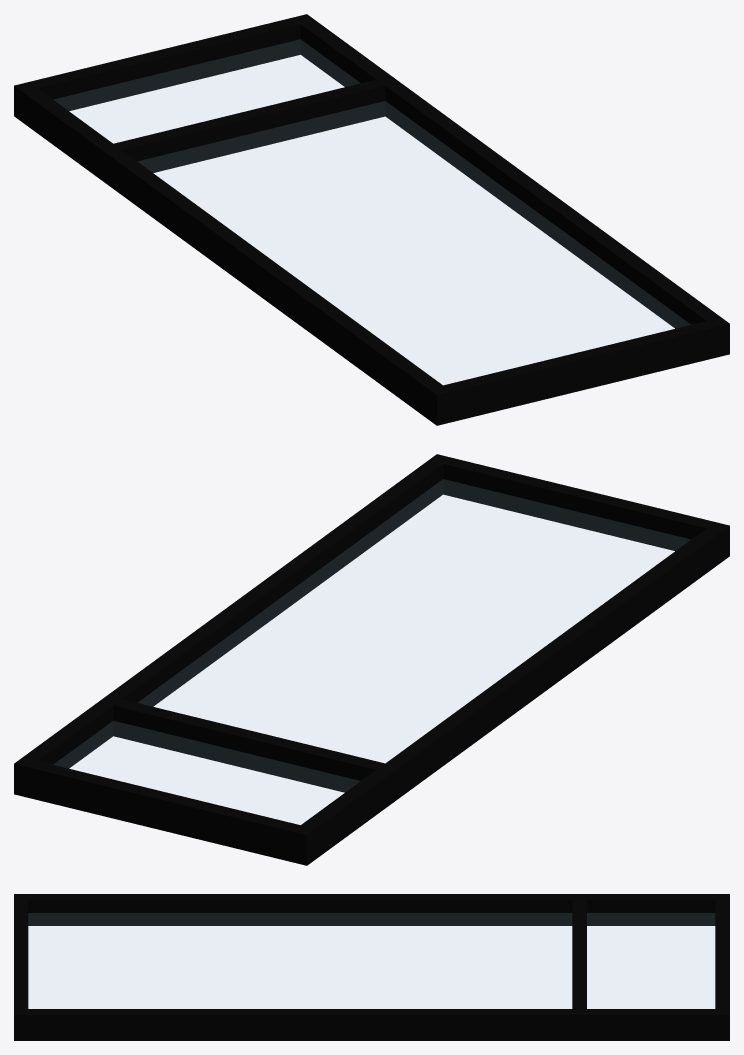
The model's file is Front_Fenster.fbx.
The picture shows the model from 3 angles, top to bottom: view 1: azimuth 30°, elevation 25°; view 2: azimuth 150°, elevation 25°; view 3: azimuth 270°, elevation 25°; orthographic projection. The views are drawn at different scales.
Parts seen in each view (by area): view 1: WindowFrame; view 2: WindowFrame; view 3: WindowFrame.
Part boxes in pixels (box(x1,y1,x2,y2)): WindowFrame: box(14, 14, 729, 425); WindowFrame: box(14, 454, 729, 865); WindowFrame: box(14, 894, 729, 1040).
Size of the model in its own units: 180 by 18 by 450.
